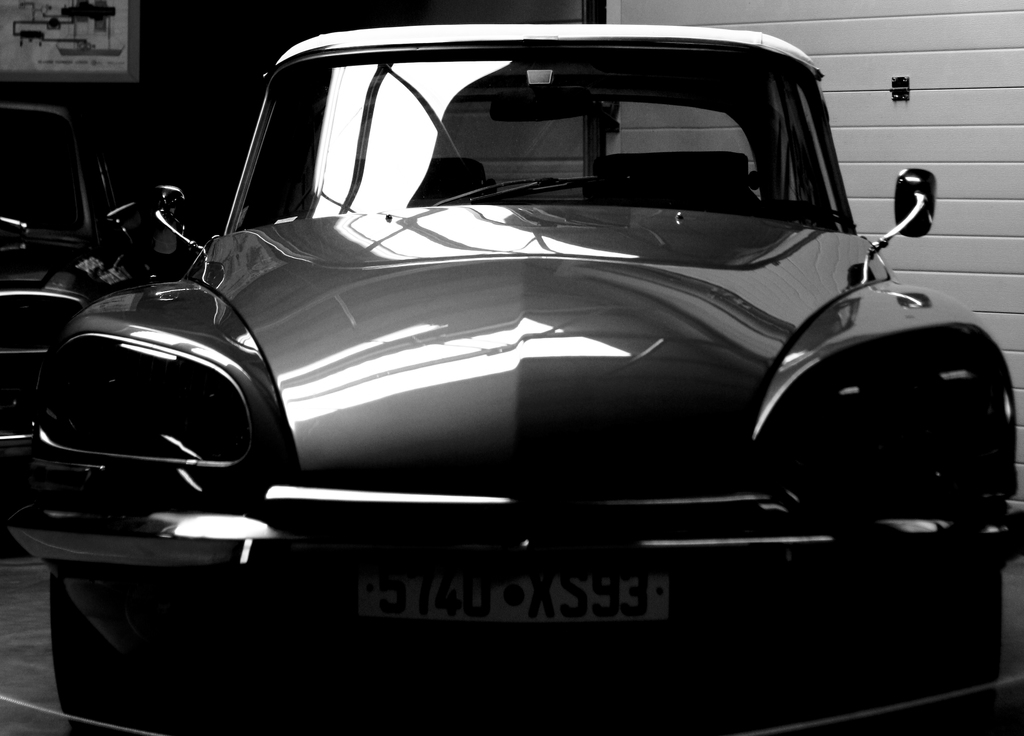Car: (0, 17, 1023, 735), (0, 99, 211, 533)
